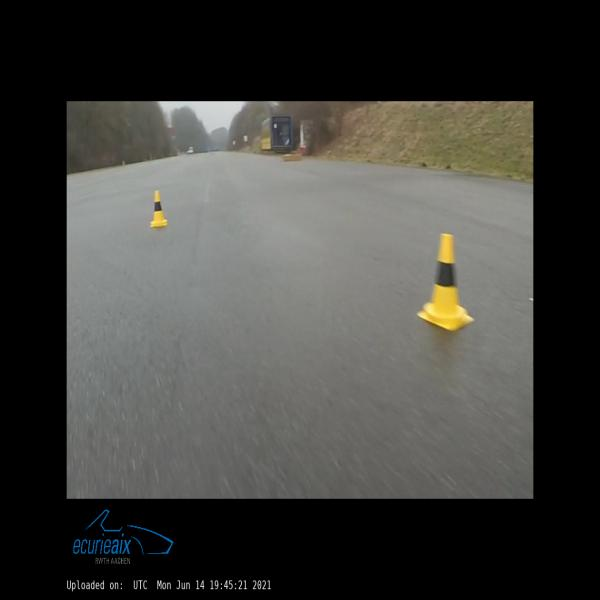yellow_cone: (417, 233, 474, 330), (151, 190, 167, 226)
